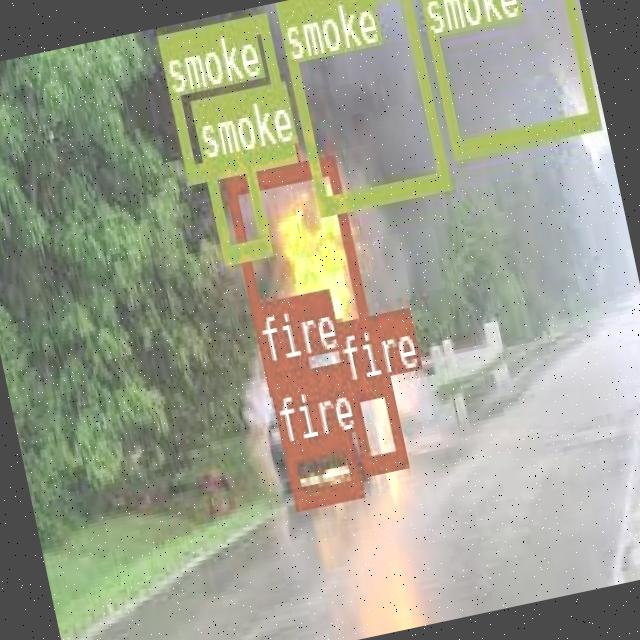fire: (222, 154, 376, 391), (281, 431, 362, 508), (344, 374, 405, 471), (264, 353, 316, 411)
smoke: (272, 0, 447, 214), (413, 0, 597, 154), (155, 11, 294, 180), (200, 152, 270, 262)
